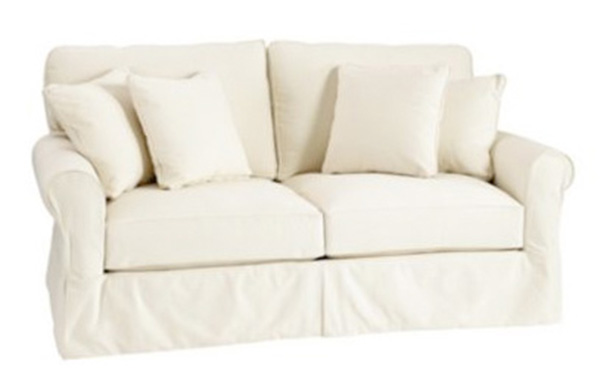chairs: (33, 42, 575, 360)
